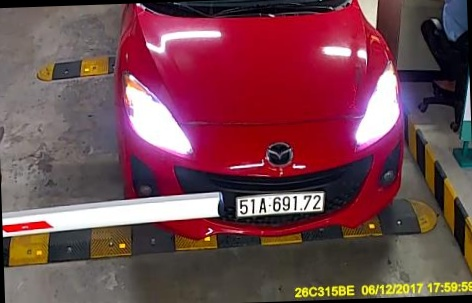plate: (228, 190, 327, 220)
